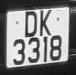1: (41, 36, 51, 65)
3: (11, 36, 28, 67), (27, 37, 42, 65)
8: (49, 34, 64, 64)
D: (23, 9, 39, 39)
K: (39, 8, 53, 39)
